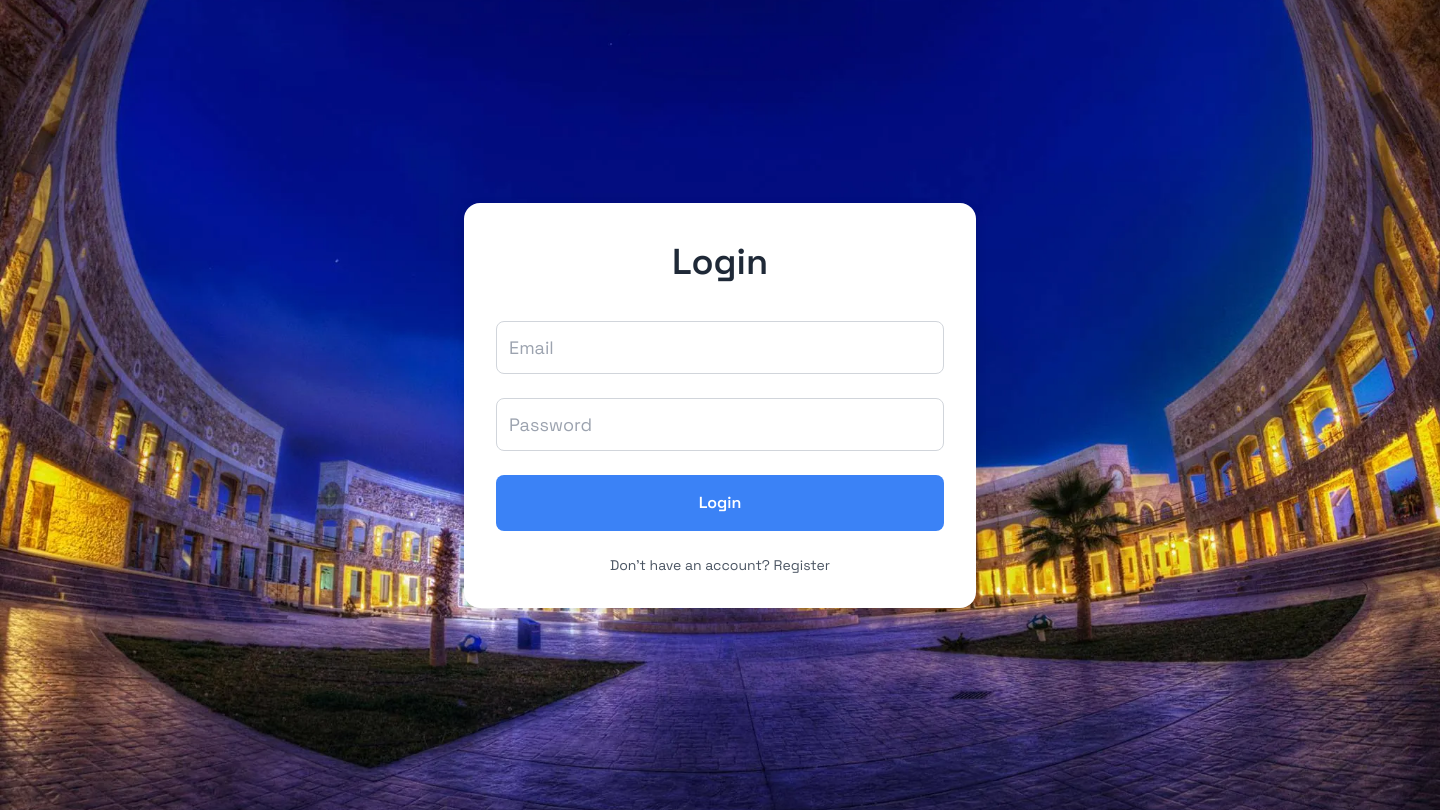
it: LoginForm › shows error when fields are empty
Step 1. Click the button "Login" → [720, 502], box [496,474,944,530]
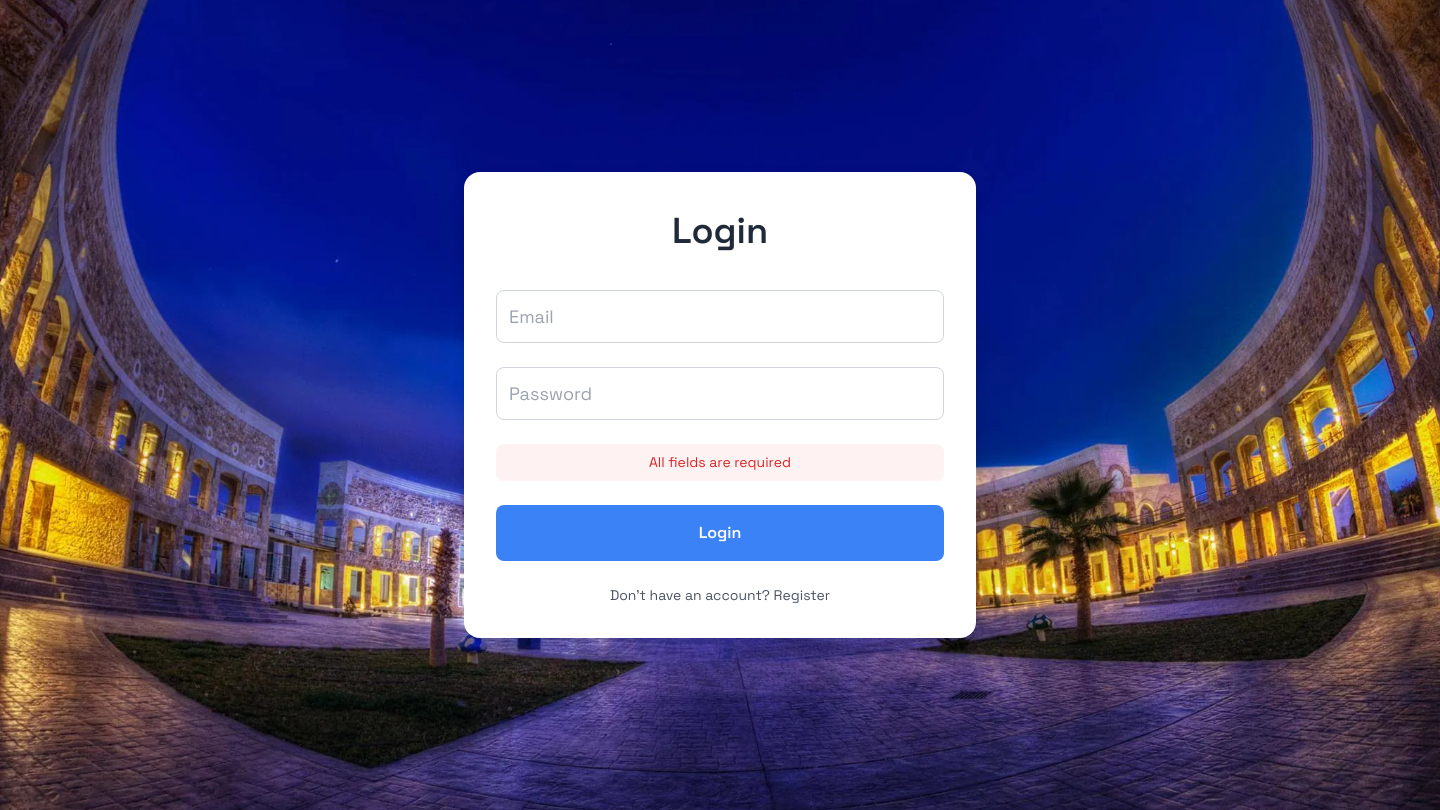
Check: the text "All fields are required" is shown, box [496,444,944,481]
